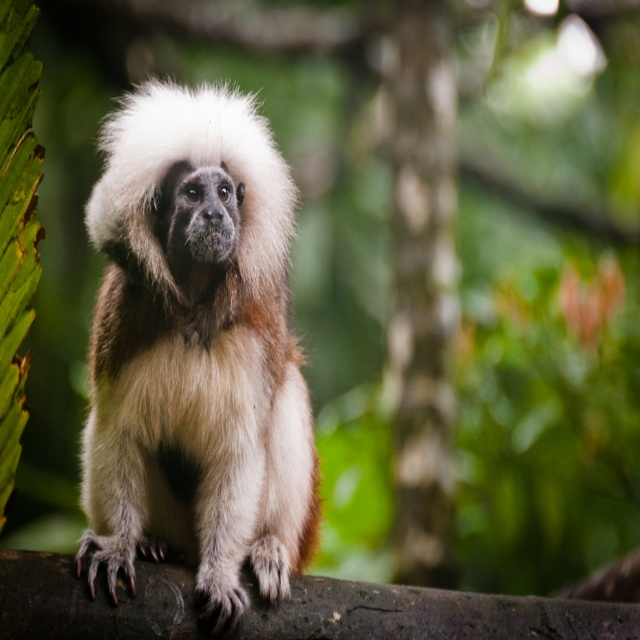Monkey: (73, 74, 326, 640)
